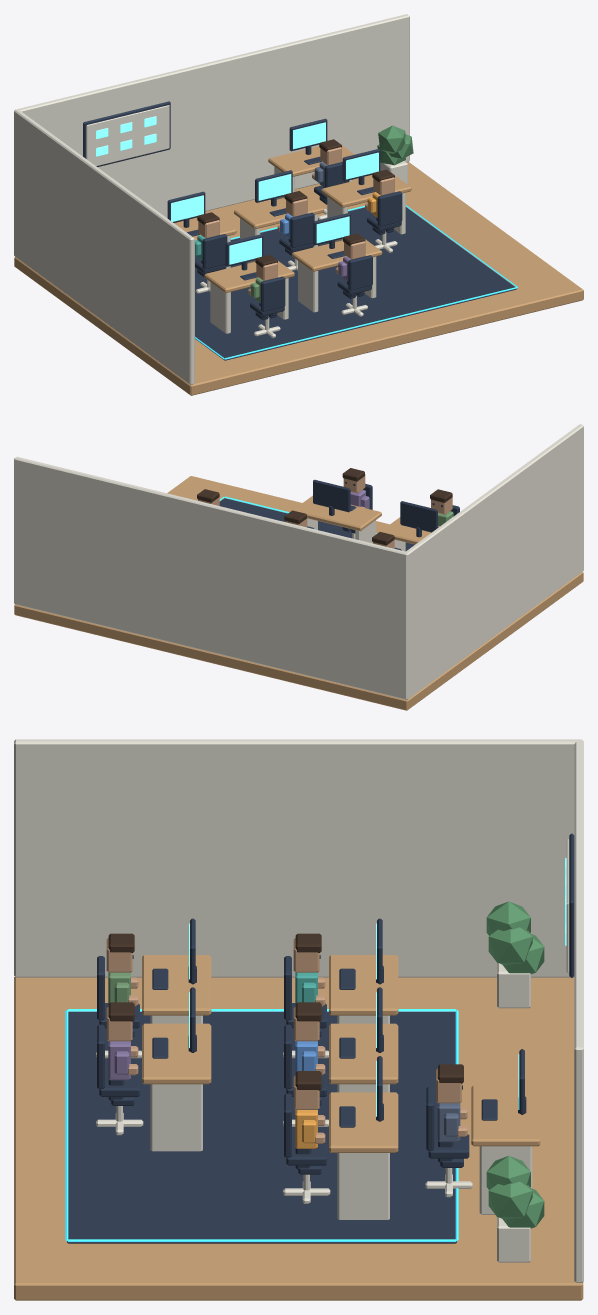
Rendered from office.glb.
3 renders of one model, top to bottom at view 1: azimuth 30°, elevation 25°; view 2: azimuth 150°, elevation 25°; view 3: azimuth 270°, elevation 25°, orthographic. The views are drawn at different scales.
Visible parts, largest first — view 1: Back wall, Left wall, Floor, Team carpet, Planning board face, Oak desktop.003, Oak desktop.004, Oak desktop.002, Oak desktop.001, Oak desktop.005, Desk support.006, Desk support.008 (+14 smaller); view 2: Back wall, Left wall, Floor, Oak desktop.004, Team carpet, Monitor frame.004, Monitor frame.003, Oak desktop.003; view 3: Left wall, Floor, Team carpet, Back wall, Oak desktop.005, Oak desktop.004, Oak desktop.002, Oak desktop.001, Desk support.009, Oak desktop.003, Oak desktop, Desk support.005 (+12 smaller).
Part boxes in pixels (x1,y1,x2,y2): Back wall: [15, 14, 409, 218]; Left wall: [14, 110, 194, 384]; Floor: [14, 162, 583, 395]; Team carpet: [195, 207, 517, 360]; Planning board face: [86, 105, 169, 166]; Oak desktop.003: [204, 261, 294, 292]; Oak desktop.004: [292, 239, 382, 271]; Oak desktop.002: [321, 175, 411, 207]; Oak desktop.001: [234, 197, 323, 229]; Oak desktop.005: [268, 145, 354, 176]; Desk support.006: [210, 282, 230, 333]; Desk support.008: [298, 261, 318, 312]; Back wall: [14, 456, 407, 699]; Left wall: [405, 424, 583, 699]; Floor: [14, 476, 583, 710]; Oak desktop.004: [293, 495, 381, 531]; Team carpet: [219, 498, 414, 551]; Monitor frame.004: [313, 479, 350, 512]; Monitor frame.003: [400, 501, 437, 532]; Oak desktop.003: [380, 517, 439, 544]; Left wall: [14, 739, 580, 977]; Floor: [14, 977, 583, 1300]; Team carpet: [67, 1012, 456, 1243]; Back wall: [574, 739, 583, 1282]; Oak desktop.005: [471, 1085, 540, 1146]; Oak desktop.004: [142, 1023, 211, 1084]; Oak desktop.002: [329, 1092, 398, 1152]; Oak desktop.001: [329, 1023, 398, 1084]; Desk support.009: [150, 1084, 202, 1151]; Oak desktop.003: [142, 955, 211, 1015]; Oak desktop: [329, 955, 398, 1015]; Desk support.005: [337, 1153, 389, 1219].
Size of the model in its own units: 9.01 by 3.44 by 7.01.
